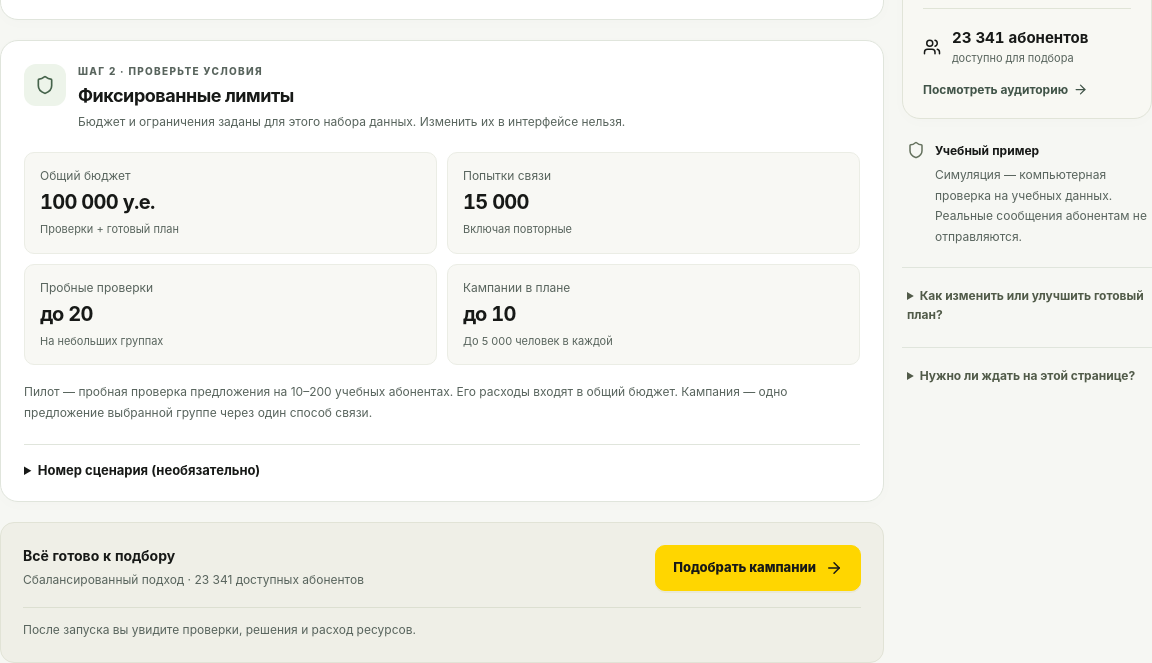
Test: keeps an empty seed invalid instead of silently changing it to zero
(page scrolled)
Click the heading "Номер сценария (необязательно)": point(149, 470) [38,462,260,478]
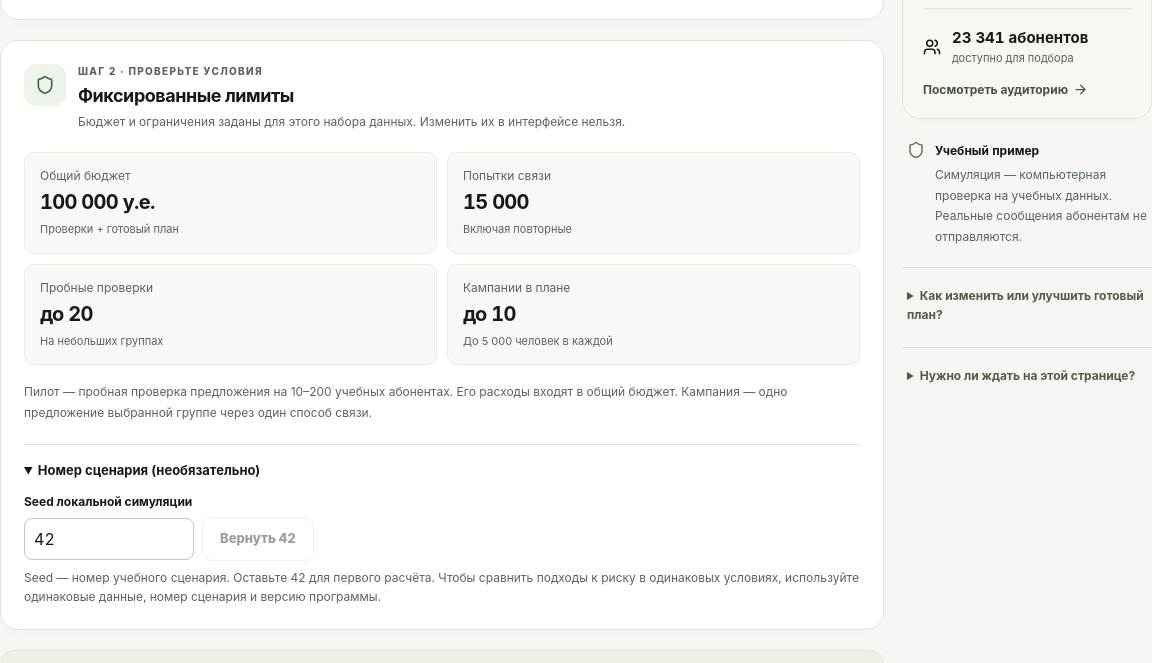
Clear the number field labelled "Seed локальной симуляции": point(109, 539) [24,518,194,560]
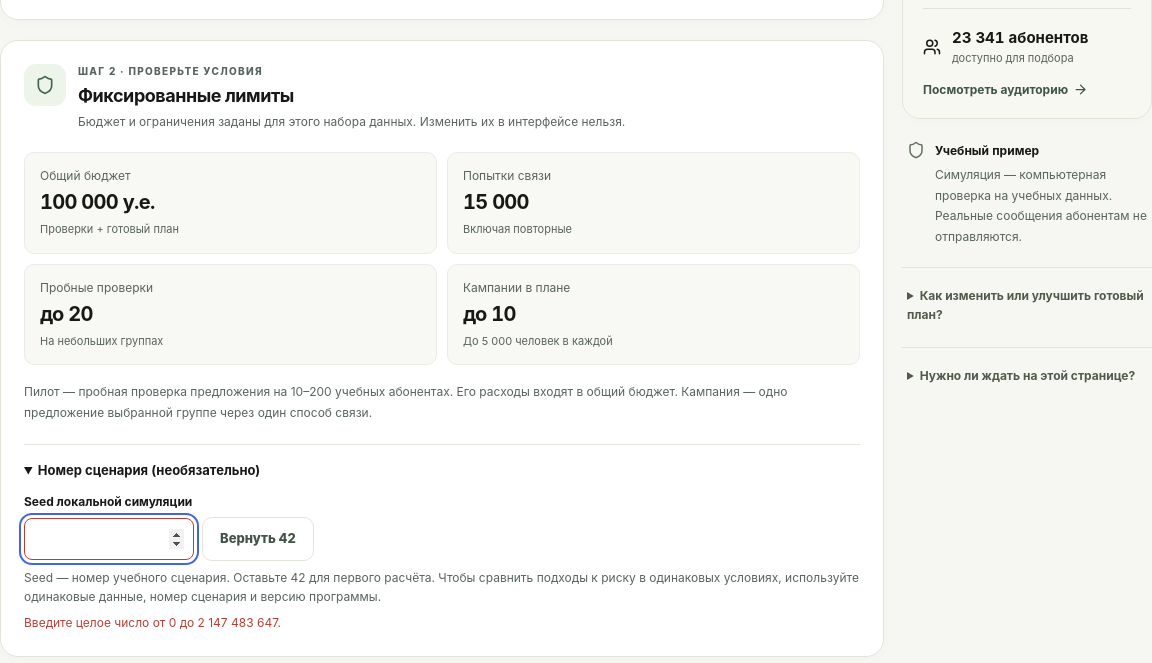
Result: the number field labelled "Seed локальной симуляции" is marked as invalid at [24,518,194,560]
Click the button "Вернуть 42": point(258, 539) [202,517,314,561]
(page scrolled)
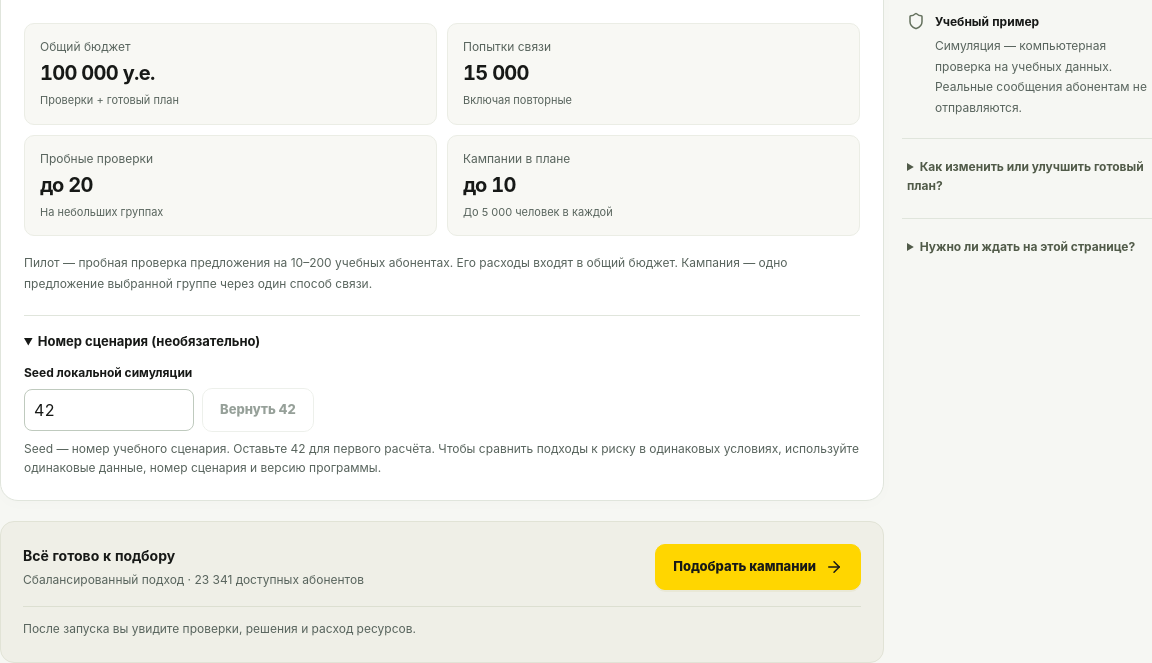
Result: the number field labelled "Seed локальной симуляции" holds "42" at [24,389,194,431]
Result: the button "Подобрать кампании" is enabled at [655,544,861,590]
